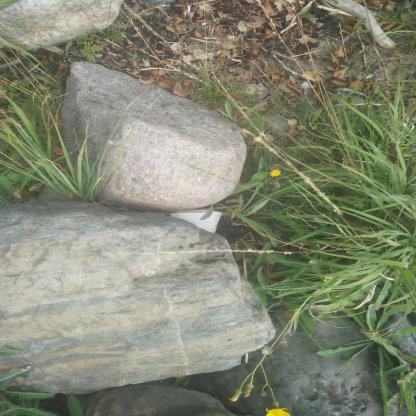karton: (170, 209, 222, 235)
